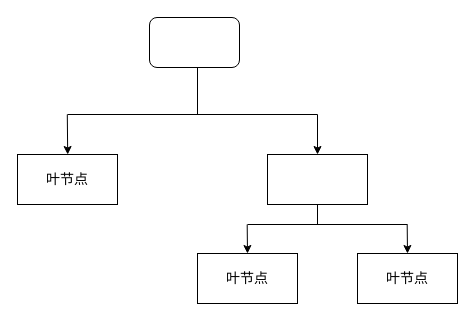
Some shapes in this 475 by 321 pixel diagram are drawn without their labels. Each missing label, with the centre of its shape:
"内部节点" goes at point (317, 179).
"根节点" goes at point (194, 42).
